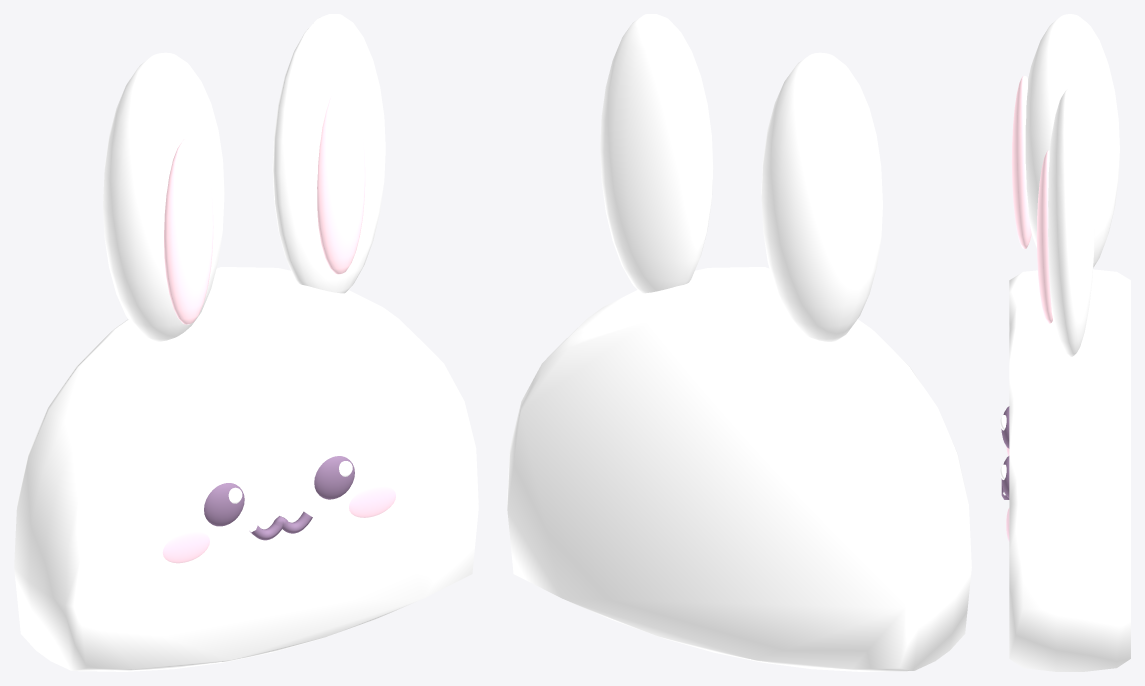
The model's file is squishy_bunny.glb.
3 views of the same model, side by side, from view 1: azimuth 30°, elevation 25°; view 2: azimuth 150°, elevation 25°; view 3: azimuth 270°, elevation 25° (orthographic). The views are drawn at different scales.
Parts seen in each view (by area): view 1: bunny; view 2: bunny; view 3: bunny.
Part boxes in pixels (bbox=[...]): bunny: bbox=[14, 14, 478, 671]; bunny: bbox=[507, 14, 971, 671]; bunny: bbox=[1000, 14, 1130, 671].
Size of the model in its own units: 0.7293 by 1 by 0.2131.
